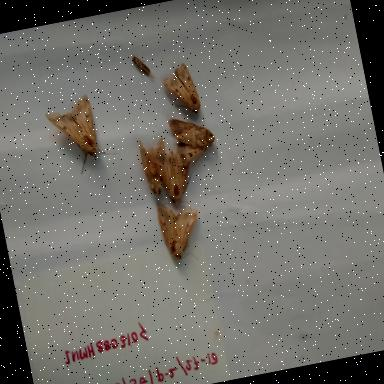abw: (40, 83, 127, 191), (150, 193, 210, 268), (162, 108, 222, 174), (149, 140, 196, 217), (156, 56, 208, 120), (132, 131, 176, 201)
